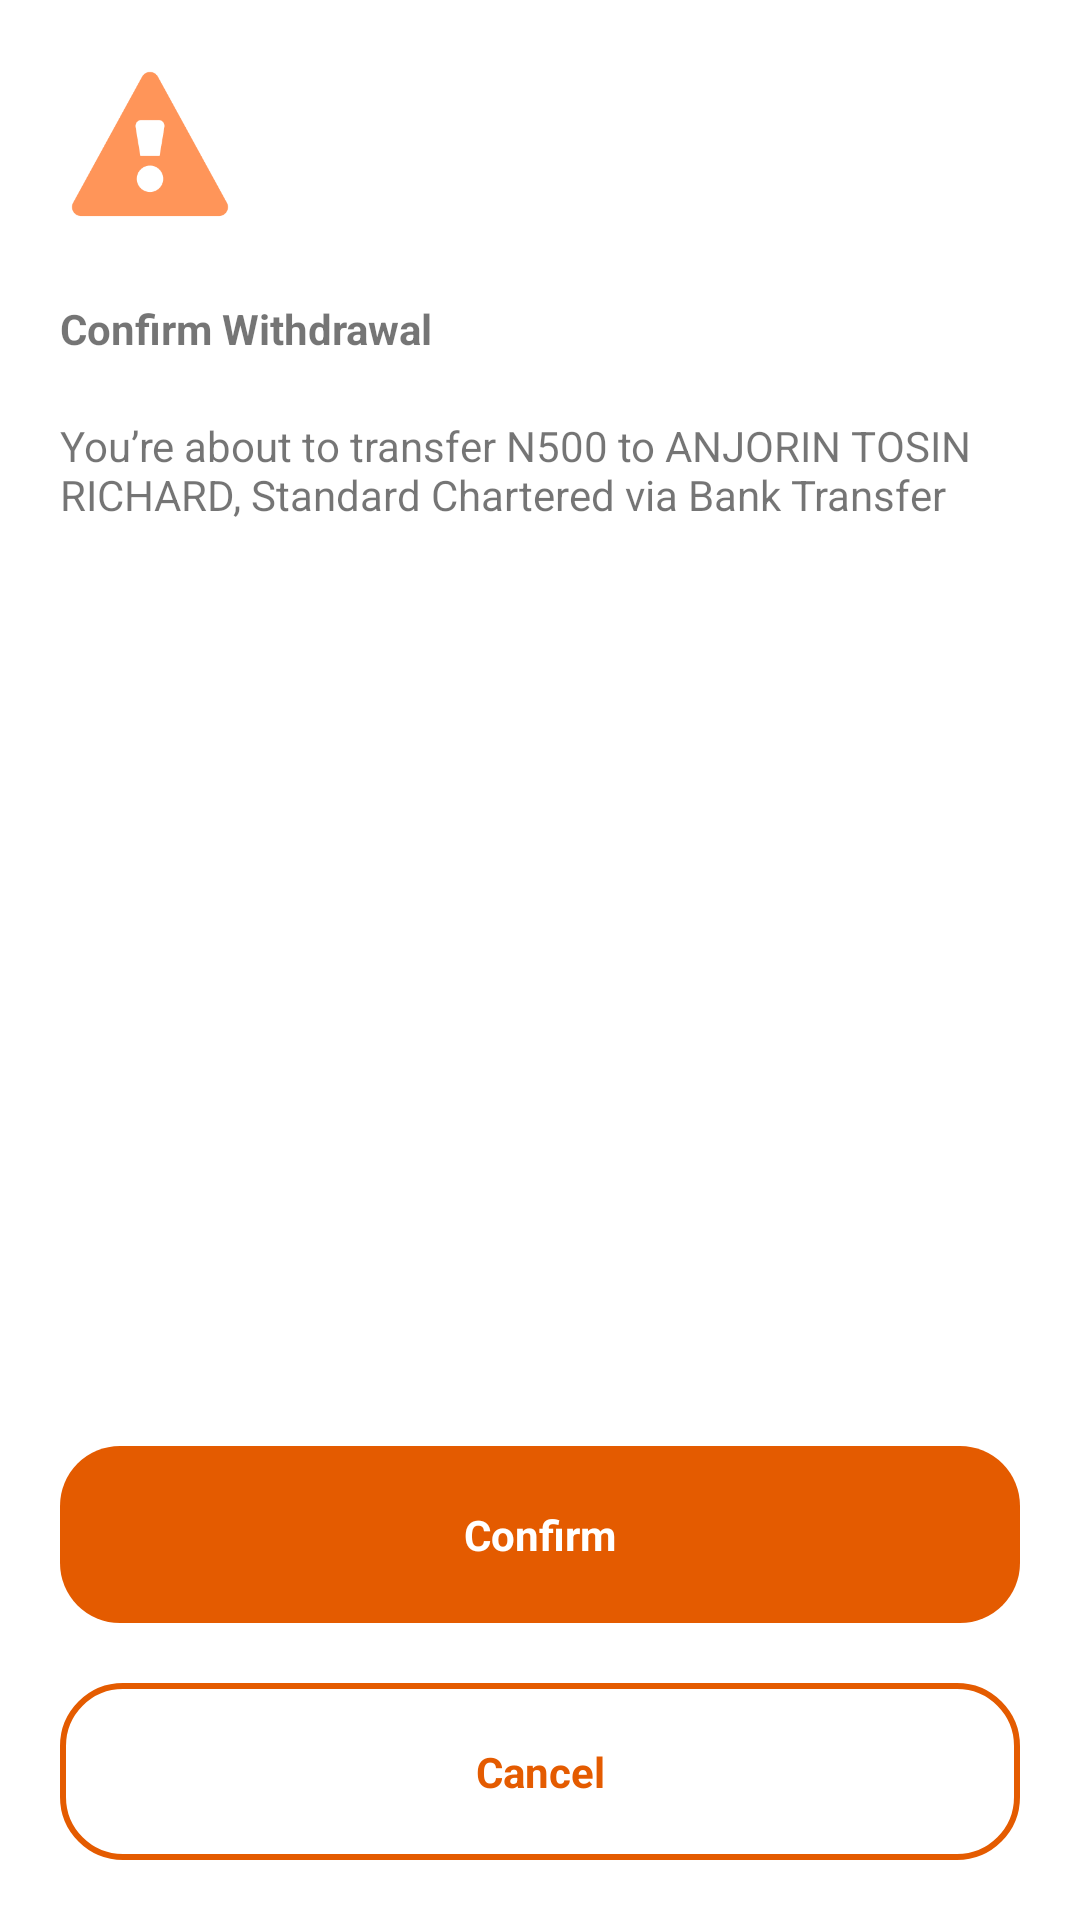

Named icons in this screenshot (1080*1920) and their centers, (x,y):
maki caution: (150,144)
